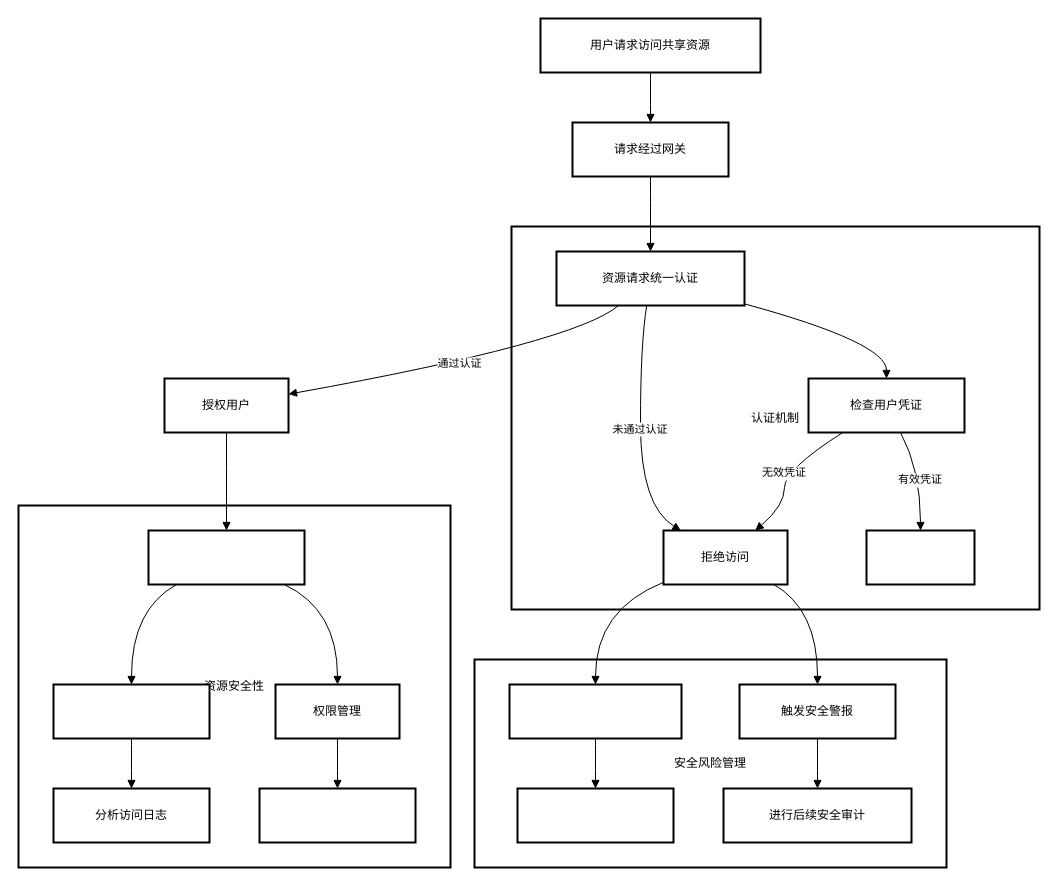
Some shapes in this 1057 by 885 pixel diagram are drawn without their labels. The shapes that lost their labels are listed below. From the top down, each one's centre as x and y in pixels, then its label:
point 226,557: 访问共享资源
point 920,557: 数据库
point 131,711: 监控访问活动
point 595,711: 记录未授权访问
point 337,815: 更新用户权限
point 595,815: 分析访问模式
